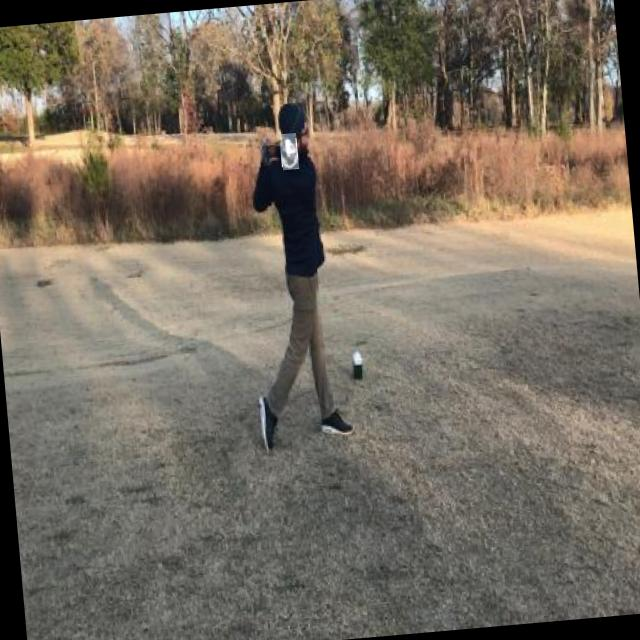club head: (280, 132, 298, 170)
